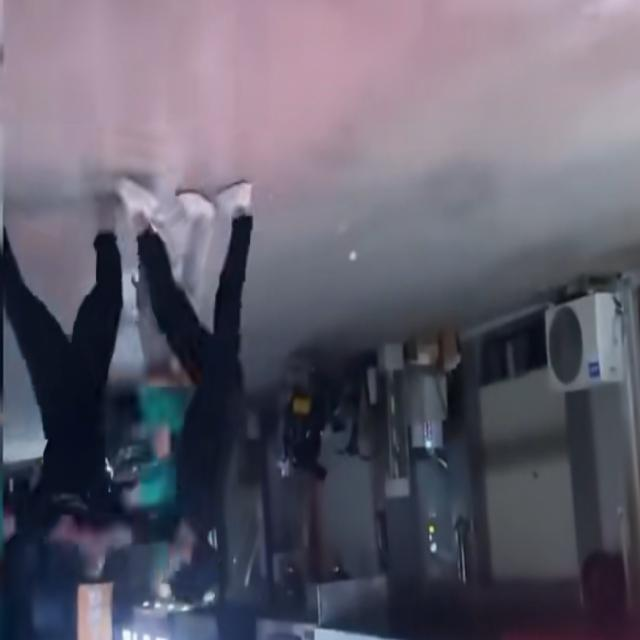fight: (26, 450, 234, 606)
